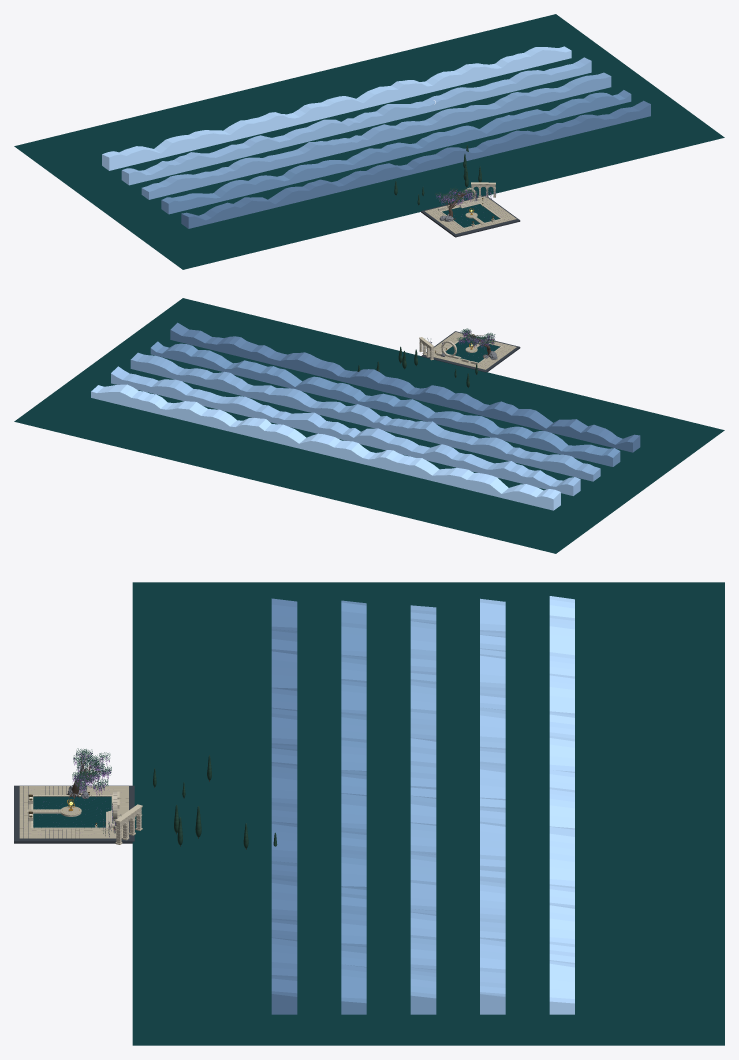
The model's file is moonwater-web.glb.
3 renders of one model, top to bottom at view 1: azimuth 30°, elevation 25°; view 2: azimuth 150°, elevation 25°; view 3: azimuth 270°, elevation 25°, orthographic. The views are drawn at different scales.
Visible parts, largest first — view 1: 06 Distant landscape | Deep turquoise reflective water, 06 Distant landscape | Atmospheric mountain layer 4, 06 Distant landscape | Atmospheric mountain layer 2, 06 Distant landscape | Atmospheric mountain layer 0, 06 Distant landscape | Atmospheric mountain layer 3, 06 Distant landscape | Atmospheric mountain layer 1, 01 Pool and terraces | Wet terrace limestone, 01 Pool and terraces | Deep turquoise reflective water, 01 Pool and terraces | Paving joints; view 2: 06 Distant landscape | Deep turquoise reflective water, 06 Distant landscape | Atmospheric mountain layer 4, 06 Distant landscape | Atmospheric mountain layer 2, 06 Distant landscape | Atmospheric mountain layer 0, 06 Distant landscape | Atmospheric mountain layer 1, 06 Distant landscape | Atmospheric mountain layer 3, 01 Pool and terraces | Wet terrace limestone, 01 Pool and terraces | Deep turquoise reflective water; view 3: 06 Distant landscape | Deep turquoise reflective water, 06 Distant landscape | Atmospheric mountain layer 0, 06 Distant landscape | Atmospheric mountain layer 2, 06 Distant landscape | Atmospheric mountain layer 4, 06 Distant landscape | Atmospheric mountain layer 3, 06 Distant landscape | Atmospheric mountain layer 1, 01 Pool and terraces | Wet terrace limestone, 01 Pool and terraces | Deep turquoise reflective water, 01 Pool and terraces | Paving joints, 05 Wisteria and vegetation | Dark wisteria leaf + Sage wiste, 06 Distant landscape | Dark wisteria leaf.
Part boxes in pixels (x1,y1,x2,y2): 06 Distant landscape | Deep turquoise reflective water: (14,14,724,269); 06 Distant landscape | Atmospheric mountain layer 4: (102,46,571,170); 06 Distant landscape | Atmospheric mountain layer 2: (141,72,611,199); 06 Distant landscape | Atmospheric mountain layer 0: (181,100,650,228); 06 Distant landscape | Atmospheric mountain layer 3: (121,57,591,185); 06 Distant landscape | Atmospheric mountain layer 1: (161,90,631,214); 01 Pool and terraces | Wet terrace limestone: (424,196,516,233); 01 Pool and terraces | Deep turquoise reflective water: (442,204,499,227); 01 Pool and terraces | Paving joints: (421,195,520,237); 06 Distant landscape | Deep turquoise reflective water: (14,298,724,553); 06 Distant landscape | Atmospheric mountain layer 4: (91,384,560,510); 06 Distant landscape | Atmospheric mountain layer 2: (130,352,600,481); 06 Distant landscape | Atmospheric mountain layer 0: (170,322,640,452); 06 Distant landscape | Atmospheric mountain layer 1: (150,341,620,466); 06 Distant landscape | Atmospheric mountain layer 3: (111,366,580,495); 01 Pool and terraces | Wet terrace limestone: (424,332,516,369); 01 Pool and terraces | Deep turquoise reflective water: (445,338,500,362); 06 Distant landscape | Deep turquoise reflective water: (132,582,724,1045); 06 Distant landscape | Atmospheric mountain layer 0: (271,598,297,1014); 06 Distant landscape | Atmospheric mountain layer 2: (410,605,436,1014); 06 Distant landscape | Atmospheric mountain layer 4: (549,596,574,1014); 06 Distant landscape | Atmospheric mountain layer 3: (480,598,505,1014); 06 Distant landscape | Atmospheric mountain layer 1: (341,600,366,1014); 01 Pool and terraces | Wet terrace limestone: (19,786,128,838); 01 Pool and terraces | Deep turquoise reflective water: (33,796,111,827); 01 Pool and terraces | Paving joints: (14,785,134,843); 05 Wisteria and vegetation | Dark wisteria leaf + Sage wiste: (72,748,115,835); 06 Distant landscape | Dark wisteria leaf: (153,755,277,848).
Size of the model in its own units: 300 by 21.87 by 195.
